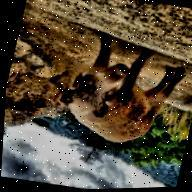boar: (45, 20, 192, 167)
